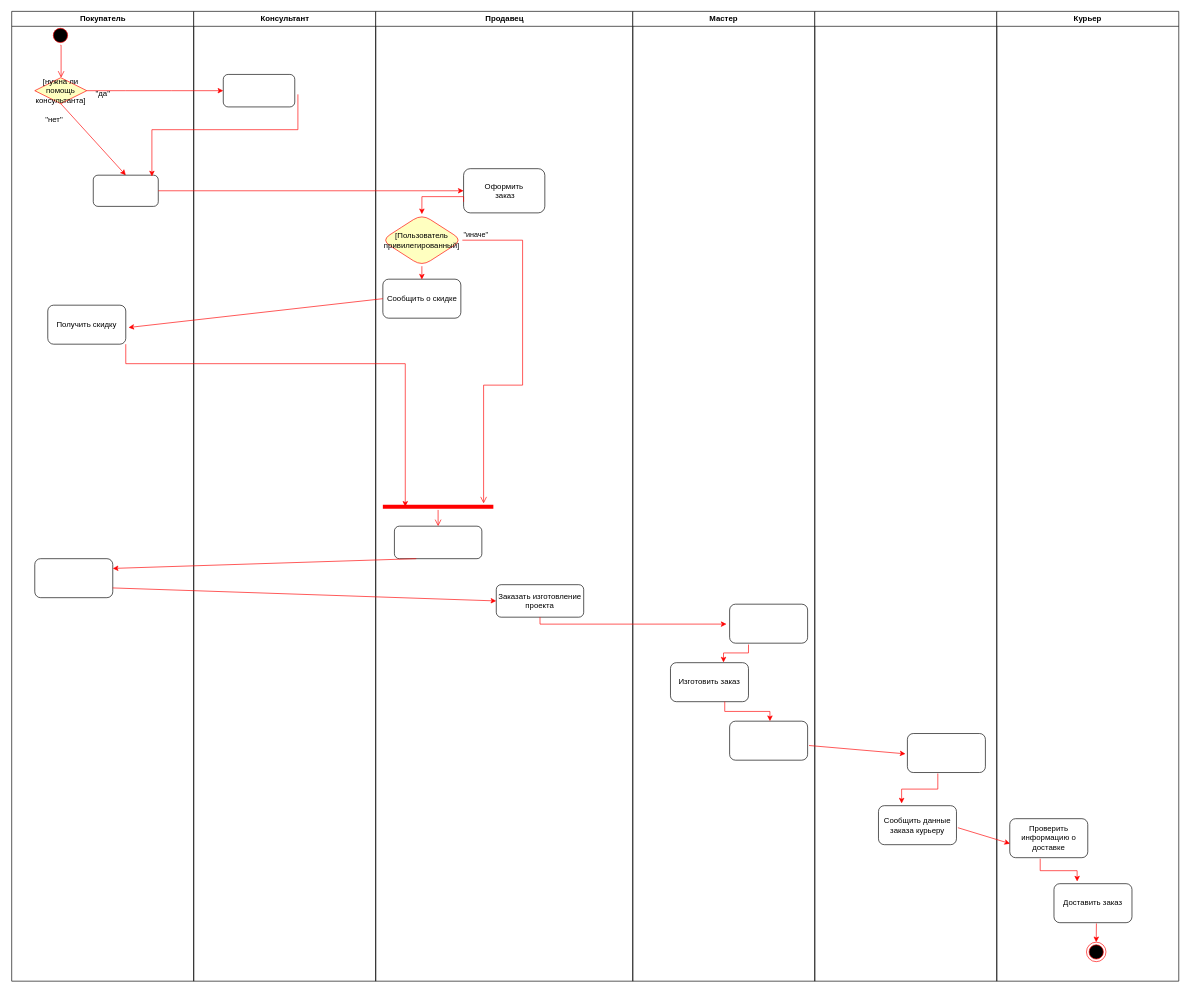
The diagram is 1190 pixels wide and 993 high, and some of its shapes have lost their labels. The box of each missing label's shape, as (x1, y1, x2, y2) in pixels:
Консультация по проекту: (223, 74, 295, 107)
Логист: (814, 11, 997, 981)
Оплатить заказ: (34, 558, 113, 598)
Получить детали заказа: (729, 604, 808, 643)
Проверить заказ: (907, 733, 985, 773)
Рассчитать стоимость заказ: (394, 526, 482, 559)
Создать проект: (93, 175, 158, 206)
Сообщить о готовности заказа: (729, 721, 808, 760)
